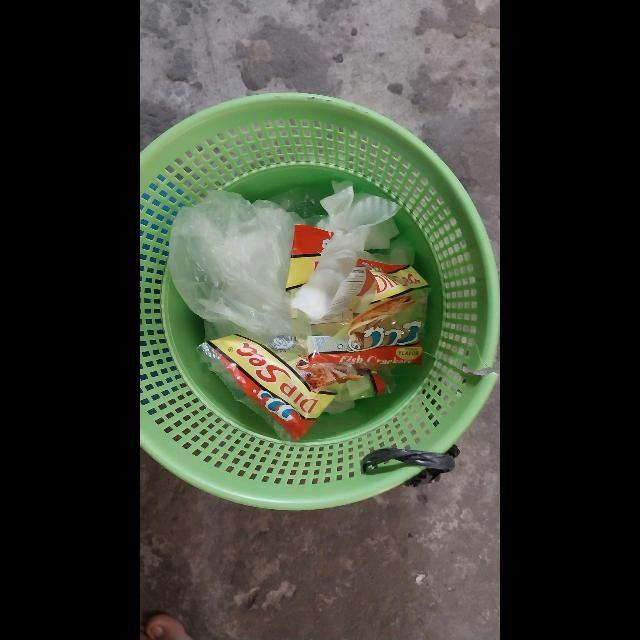food_wrapper: (196, 335, 374, 442), (292, 258, 431, 366), (286, 225, 334, 295)
paper: (292, 181, 401, 325)
plastic_bag: (168, 191, 307, 351)
